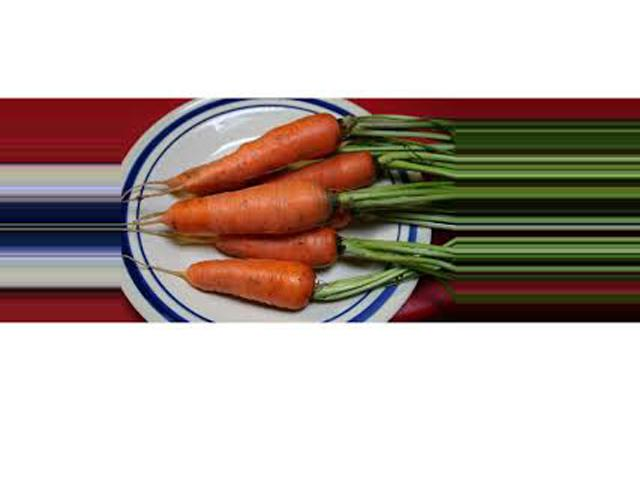carrot: (180, 249, 328, 316)
